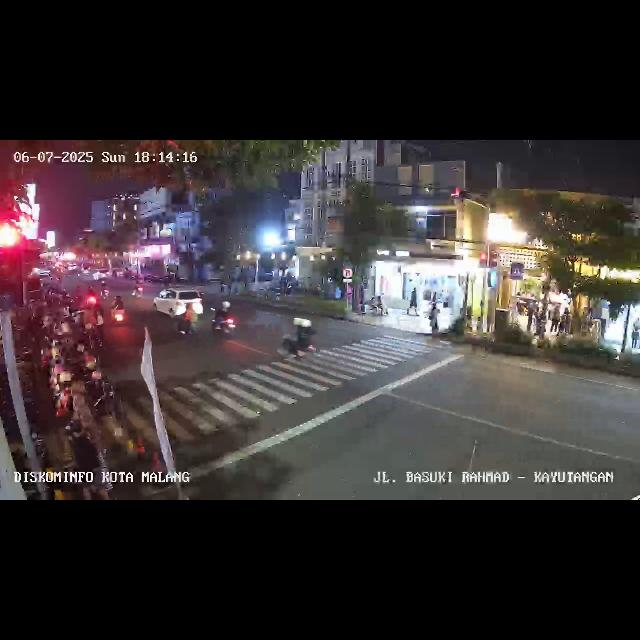car: (152, 288, 204, 320)
motorcycle: (277, 314, 317, 362), (210, 299, 238, 339), (176, 300, 198, 340), (110, 294, 128, 330), (130, 278, 144, 300), (84, 286, 98, 306), (99, 280, 111, 300)
person: (65, 416, 108, 498), (90, 303, 106, 343), (558, 306, 570, 338), (429, 302, 439, 334), (550, 304, 560, 336), (408, 286, 418, 316), (526, 302, 534, 336), (632, 322, 640, 350)
